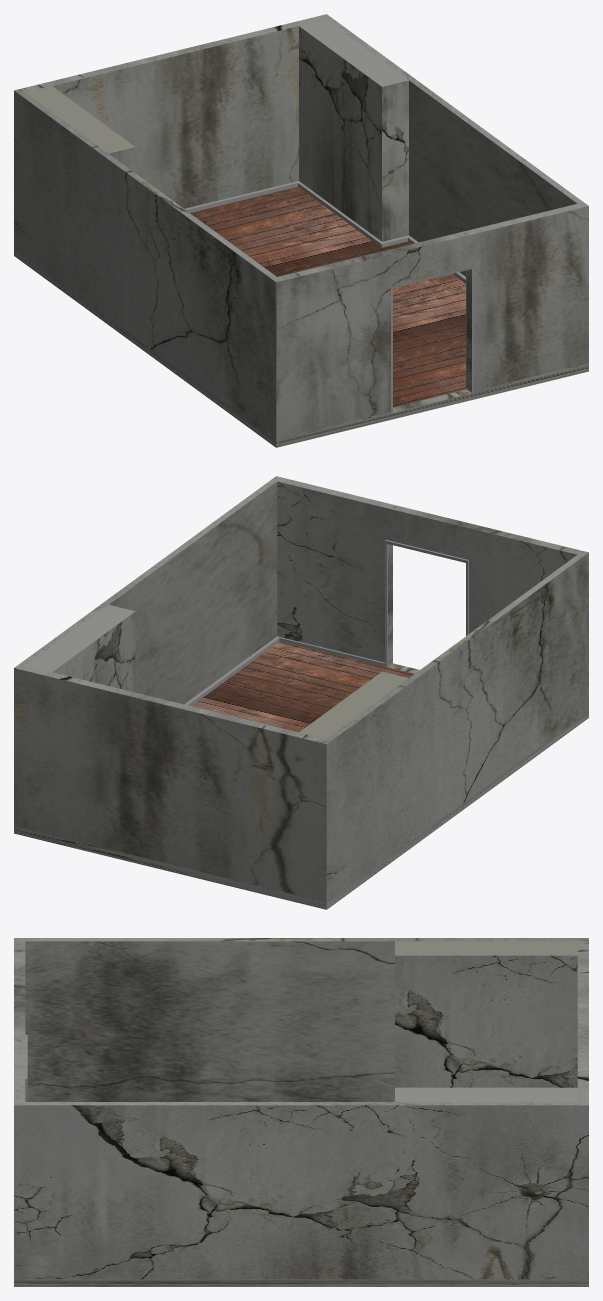
File: Cuarto.fbx
3 views of the same model, one above another, from view 1: azimuth 30°, elevation 25°; view 2: azimuth 150°, elevation 25°; view 3: azimuth 270°, elevation 25° (orthographic). The views are drawn at different scales.
Visible parts, largest first — view 1: Room; view 2: Room; view 3: Room.
Part boxes in pixels (x1,y1,x2,y2): Room: (14, 14, 588, 447); Room: (14, 476, 588, 909); Room: (14, 938, 588, 1286).
Bounding box in the file's own units: 2457 × 1243 × 3568.
Materials: 3 (2 with a texture image).
